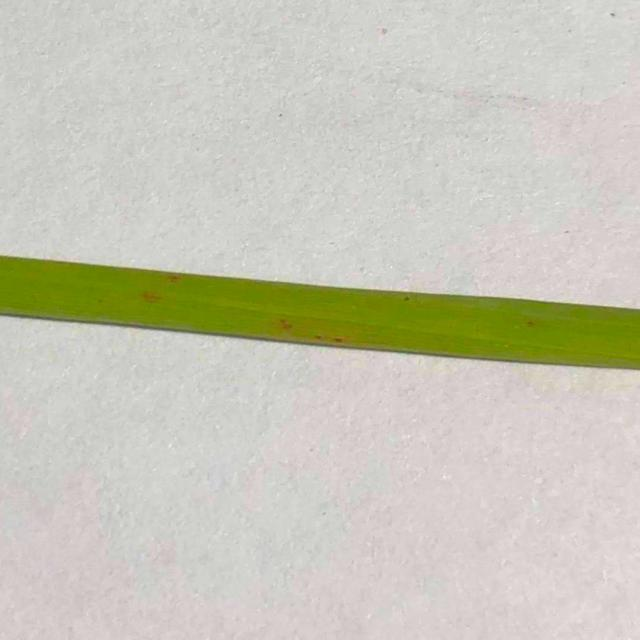brownspots: (276, 312, 344, 344), (138, 283, 168, 306), (159, 268, 189, 290), (521, 314, 541, 333)
